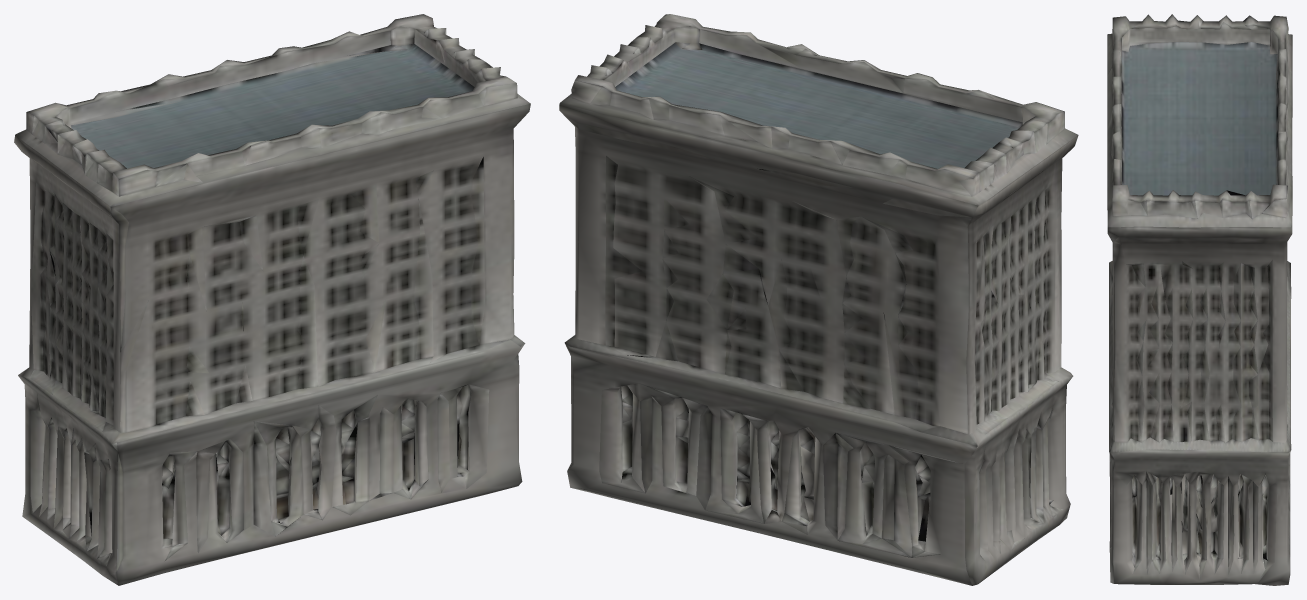
Rendered from northern_trust_50_s_lasalle.glb.
3 renders of one model, left to right at view 1: azimuth 30°, elevation 25°; view 2: azimuth 150°, elevation 25°; view 3: azimuth 270°, elevation 25°, orthographic. The views are drawn at different scales.
Visible parts, largest first — view 1: northern_trust_50_s_lasalle; view 2: northern_trust_50_s_lasalle; view 3: northern_trust_50_s_lasalle.
Boxes of the visible parts, <box> form: northern_trust_50_s_lasalle: <box>14,14,530,585</box>; northern_trust_50_s_lasalle: <box>559,14,1078,585</box>; northern_trust_50_s_lasalle: <box>1107,14,1292,585</box>.
Bounding box in the file's own units: 57 × 53 × 23.
Materials: 1 (1 with a texture image).
